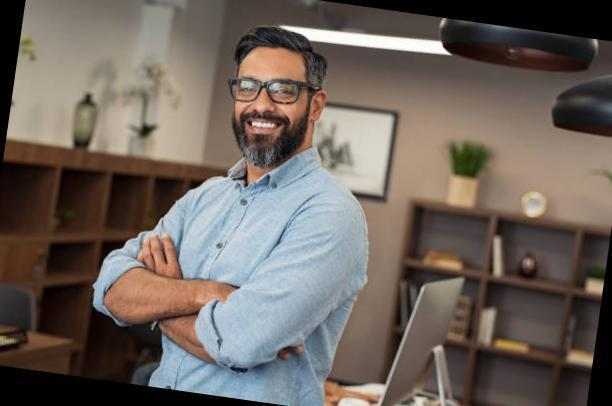Sober: (235, 58, 304, 147)
